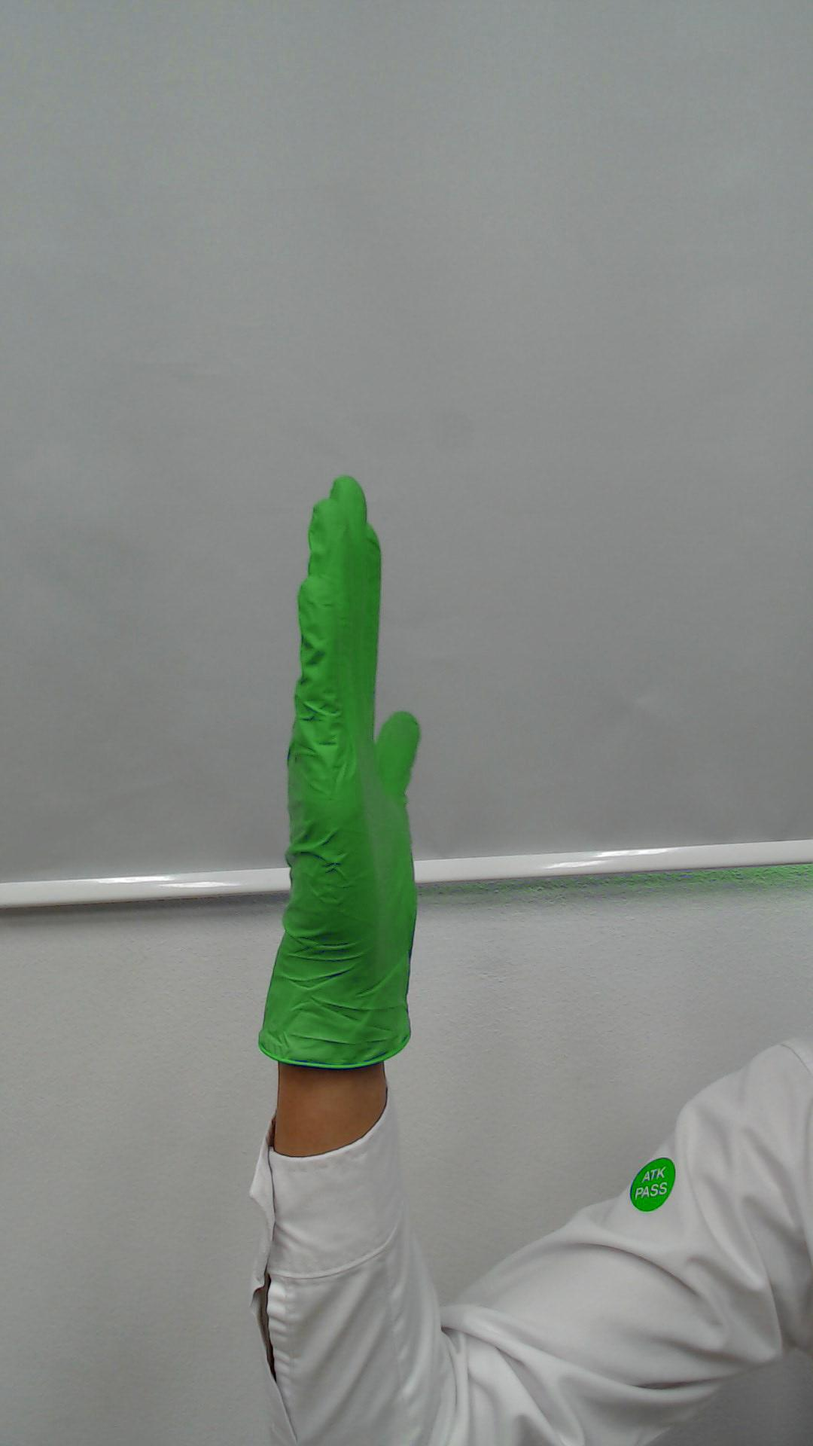gloves: (272, 463, 437, 953)
